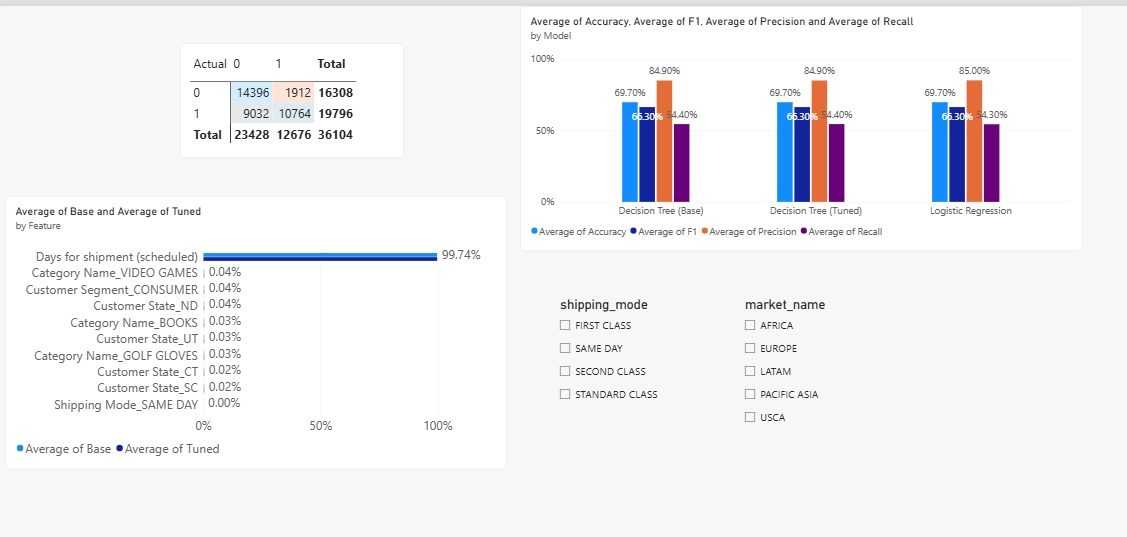

Layout of this report page (visuals, bound fields, positions):
{"tool":"powerbi","page":{"name":"Modeling LDR","canvas":[1920,1080],"ordinal":6},"visuals":[{"type":"pivotTable","fields":{"Columns":["ldr_predictions.Decision Tree (Tuned)"],"Rows":["ldr_predictions.Actual"],"Values":["CountNonNull(ldr_predictions.Order Item Id)"]},"box":[306.9,61.7,368.6,188.8],"z":0},{"type":"clusteredColumnChart","fields":{"Category":["ldr_comparison.Model"],"Y":["Avg(ldr_comparison.Accuracy)","Avg(ldr_comparison.F1)","Avg(ldr_comparison.Precision)","Avg(ldr_comparison.Recall)"]},"box":[867.9,0,926,403.1],"z":1000},{"type":"clusteredBarChart","fields":{"Category":["ldr_importance.Feature"],"Y":["Avg(ldr_importance.Base)","Avg(ldr_importance.Tuned)"]},"box":[18.2,314.1,826.2,450.3],"z":2000},{"type":"slicer","fields":{"Values":["dim_shipping_mode.shipping_mode"]},"box":[924.2,479.4,228.8,230.6],"z":3000},{"type":"slicer","fields":{"Values":["dim_market.market_name"]},"box":[1231.1,479.4,228.8,230.6],"z":4000}]}

Visuals, with their boxes on the page's 1920x1080 design canvas (x1, y1, x2, y2). These are canvas units, not pixel positions in the 1127x537 screenshot, which may show the page scaled, cropped or inside an application window:
pivotTable - ldr_predictions.Decision Tree (Tuned) x ldr_predictions.Actual: 307 62 676 250
clusteredColumnChart - ldr_comparison.Model x Avg(ldr_comparison.Accuracy): 868 0 1794 403
clusteredBarChart - ldr_importance.Feature x Avg(ldr_importance.Base): 18 314 844 764
slicer - dim_shipping_mode.shipping_mode: 924 479 1153 710
slicer - dim_market.market_name: 1231 479 1460 710
